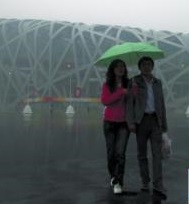person: (127, 54, 171, 197), (98, 57, 134, 194)
